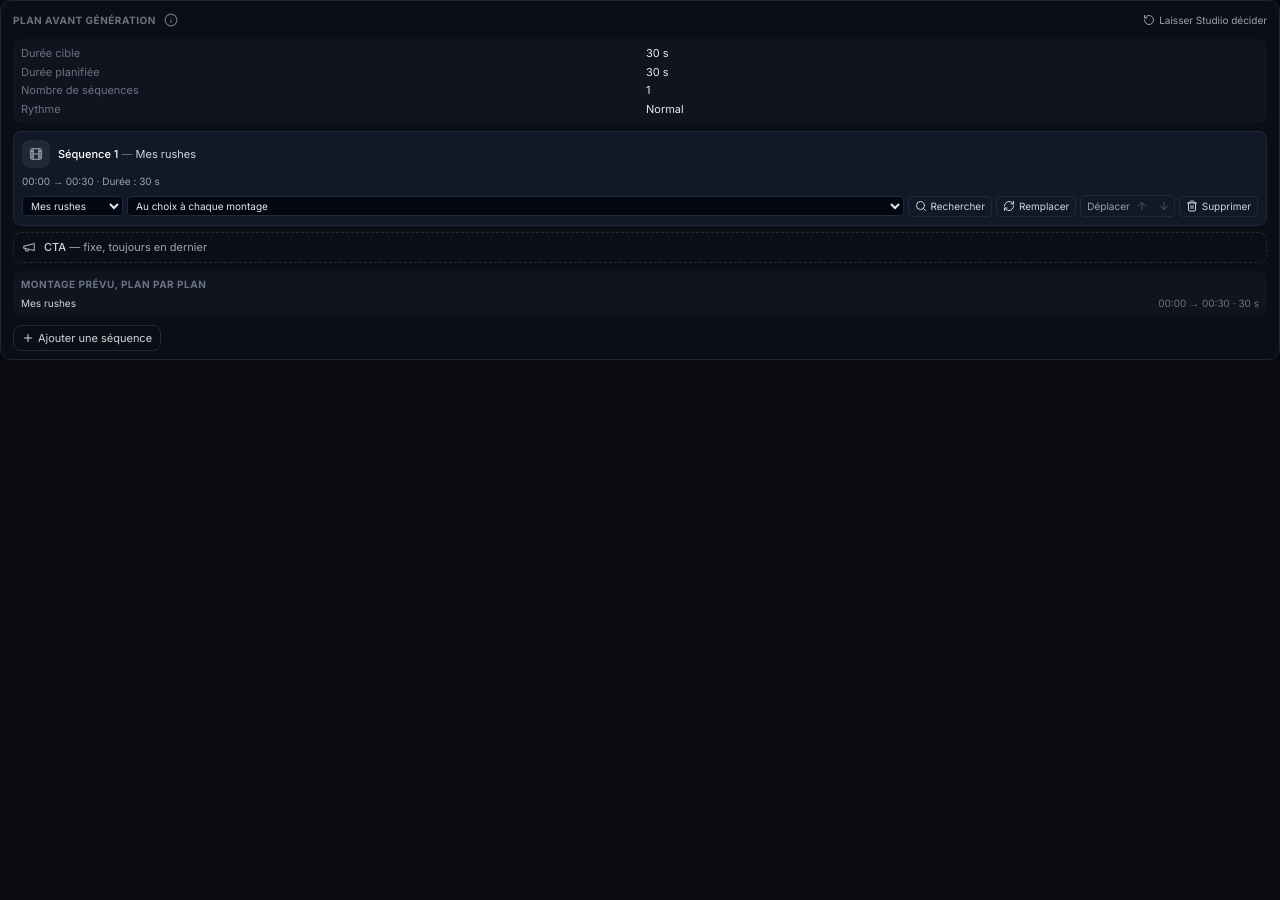
Test: « Plan avant génération » — fonctionnement à la demande › annonce du CTA et avertissement de durée derrière l’icône Info du titre
The width and height of the screenshot is (1280, 900).
Check: the 1st text "30 s" is shown, box [646,46,669,60]
Click the button named "En savoir plus sur le plan avant génération": (171, 20) [160,9,182,31]
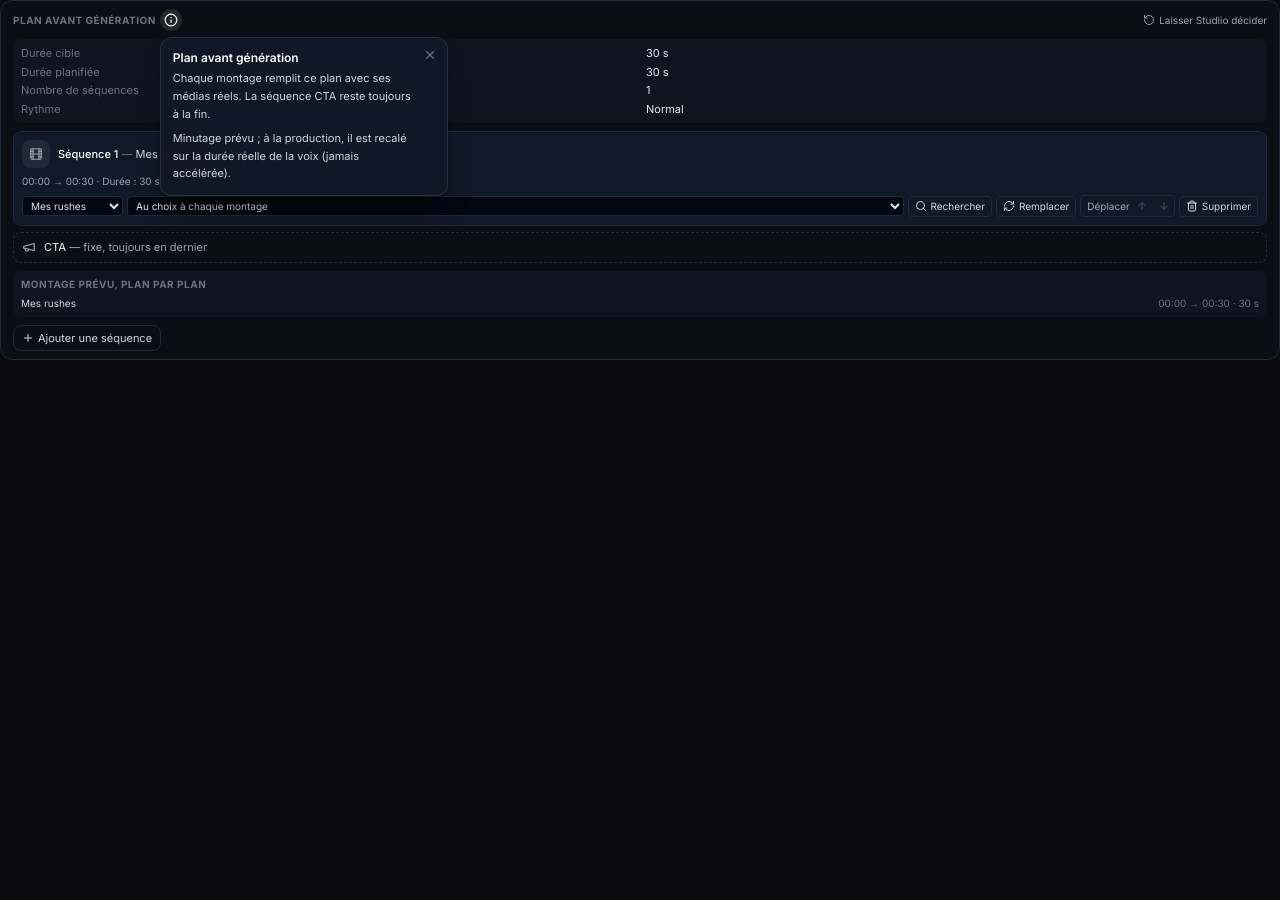
Check: the text "médias réels" is shown, box [173,71,411,121]
